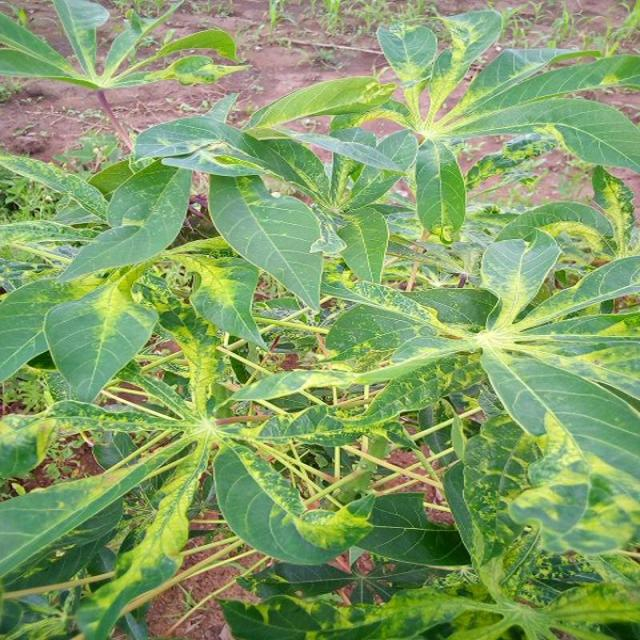cassava leaf: (0, 4, 638, 637), (211, 438, 374, 568), (206, 170, 324, 312), (42, 280, 158, 403)
